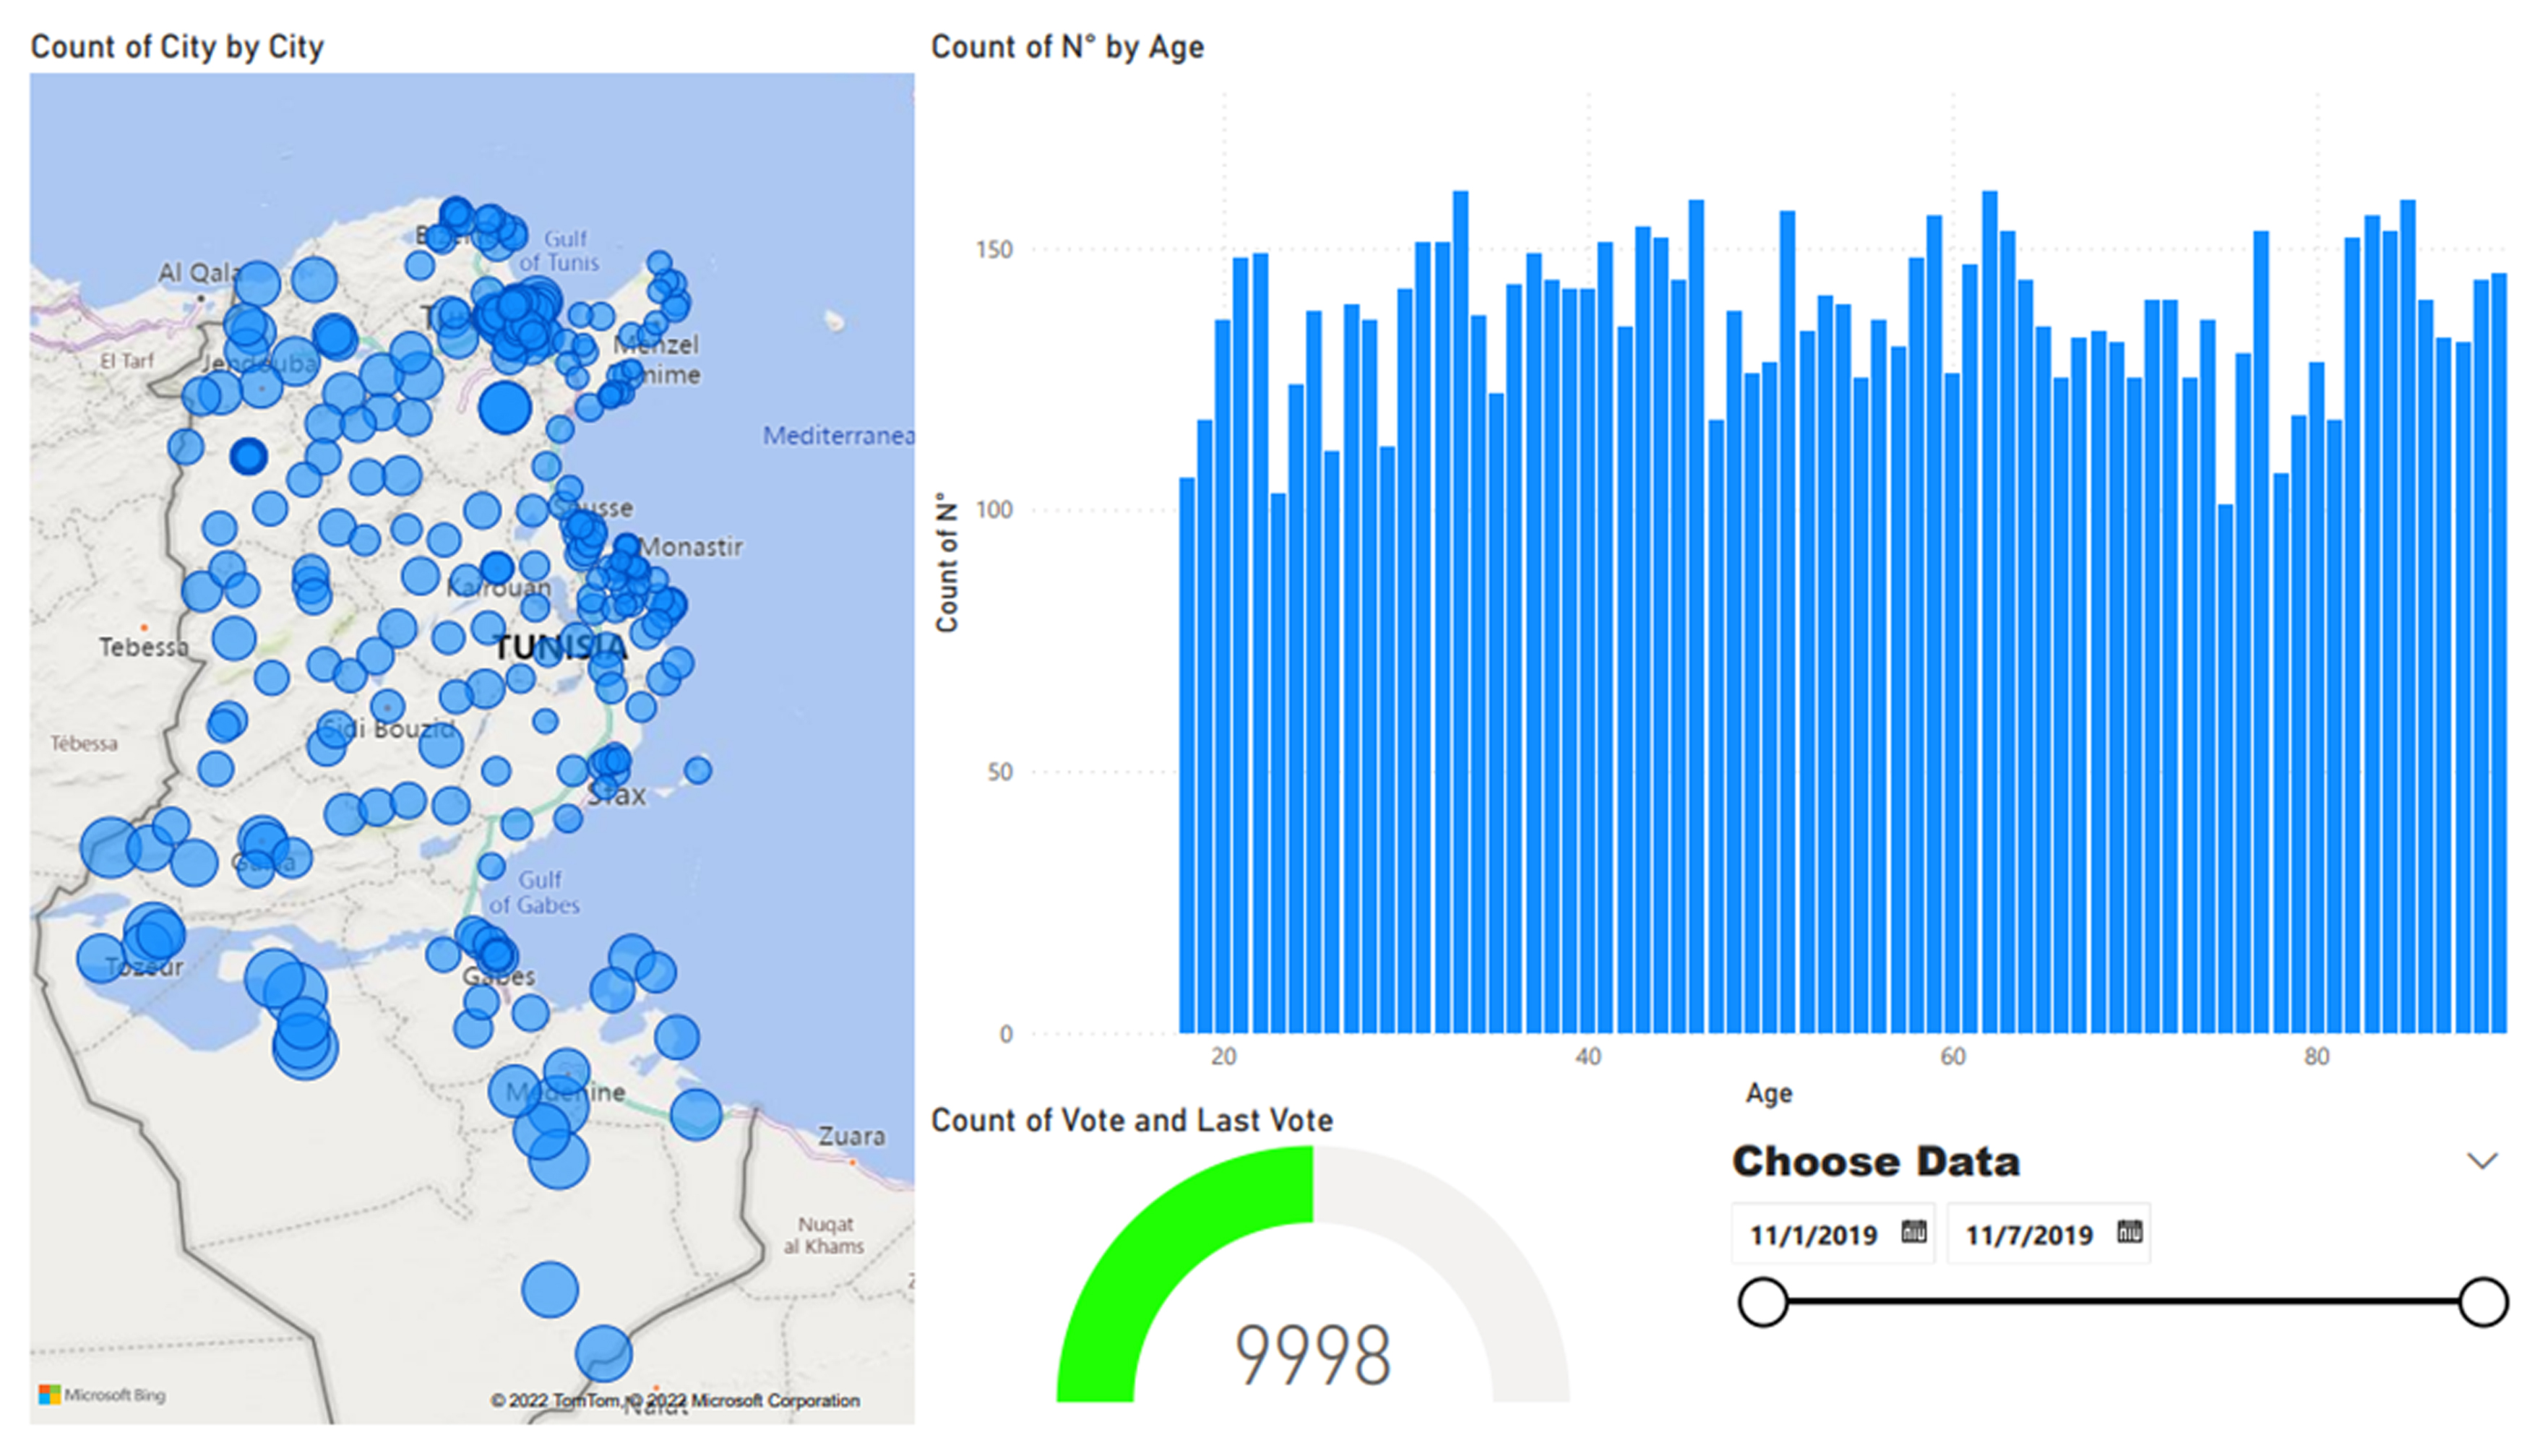

What the dashboard file says about the page in this screenshot:
{"tool":"powerbi","page":{"name":"Page 1","canvas":[1280,720],"ordinal":0},"visuals":[{"type":"slicer","fields":{"Values":["Simulation.DateByY_M_D"]},"box":[861.1,559,417.5,159.3],"z":0},{"type":"map","fields":{"Category":["Simulation.City"],"Size":["CountNonNull(Simulation.City)"]},"box":[0,0,460.7,718.8],"z":1000},{"type":"clusteredColumnChart","fields":{"Category":["Simulation.Age"],"Y":["CountNonNull(Simulation.N°)"]},"box":[460.7,0,817.7,558.4],"z":2000},{"type":"gauge","fields":{"Y":["CountNonNull(Simulation.Vote)"]},"box":[460.7,547.5,400.4,160.4],"z":3000}]}

Visuals, with their boxes in screenshot pixels (x1, y1, x2, y2), scaled from the page's 1280x720 canvas onto the 2535x1456 screenshot:
slicer - Simulation.DateByY_M_D: <bbox>1705, 1130, 2532, 1452</bbox>
map - Simulation.City x CountNonNull(Simulation.City): <bbox>0, 0, 913, 1454</bbox>
clusteredColumnChart - Simulation.Age x CountNonNull(Simulation.N°): <bbox>913, 0, 2532, 1129</bbox>
gauge - CountNonNull(Simulation.Vote): <bbox>913, 1107, 1705, 1431</bbox>
